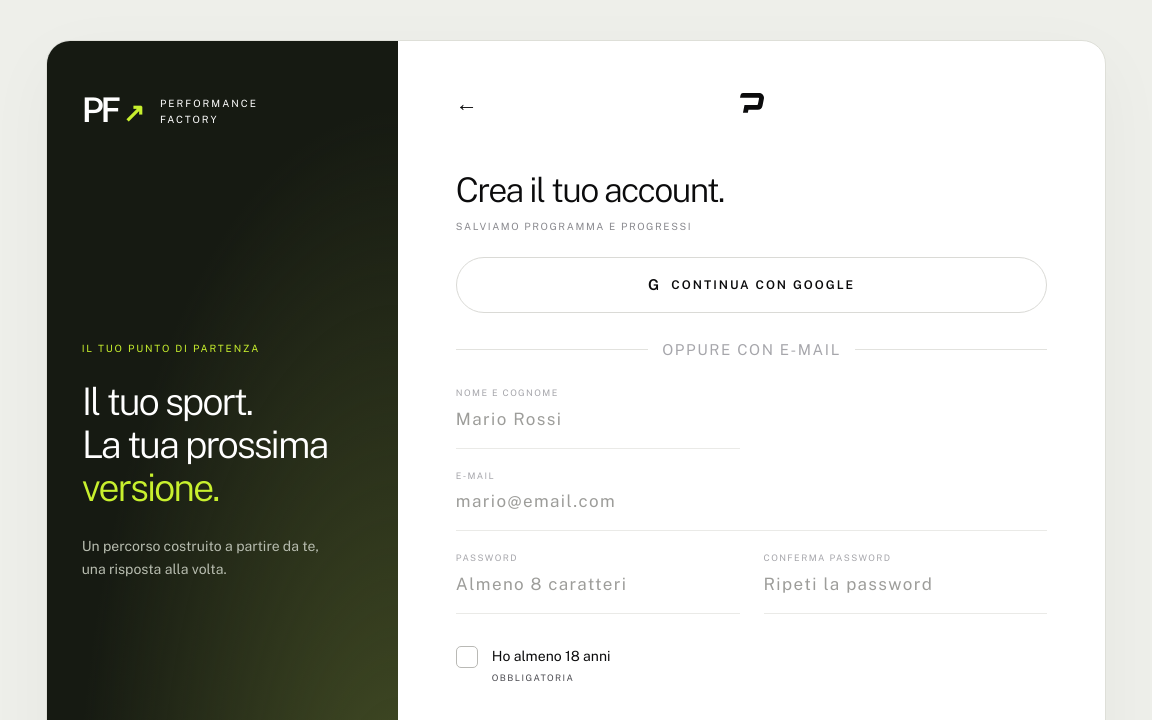
Scenario: Ingresso: attribuzione, eventi e 18+ › asks for a surname before sending the registration
In the field labelled "Nome e cognome": [598, 418] box [456,406,740,432], type "Mario"
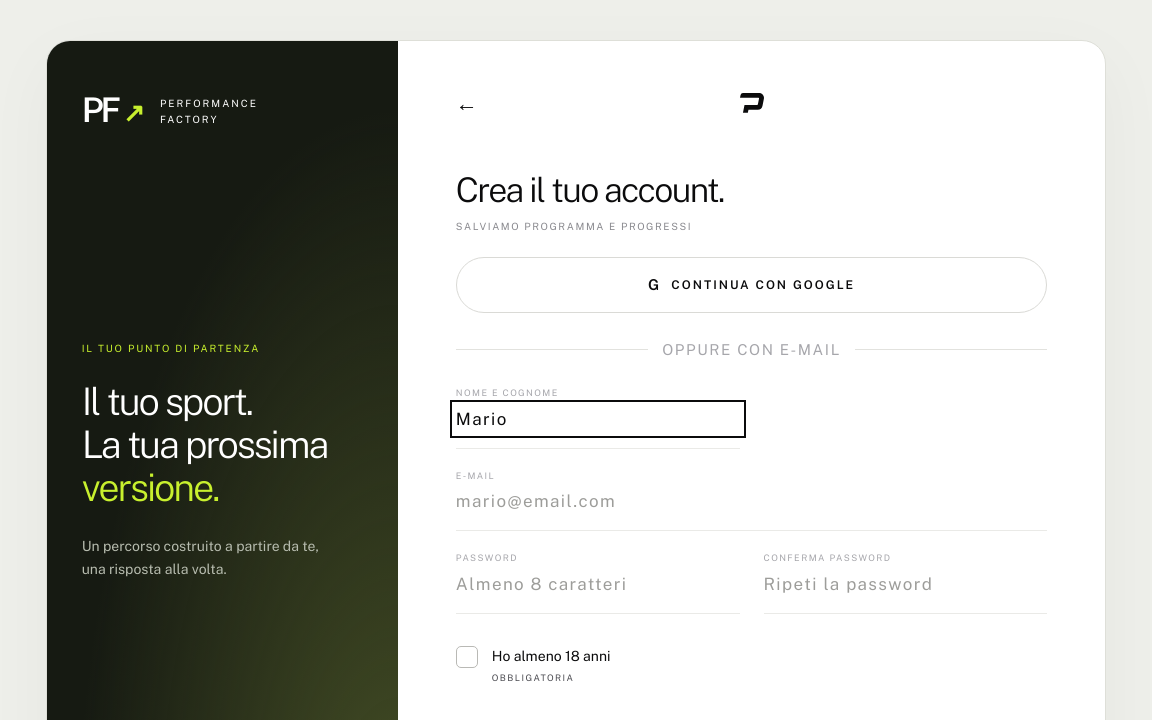
In the field labelled "E-mail": [752, 501] box [456,488,1047,514], type "m@pf.test"
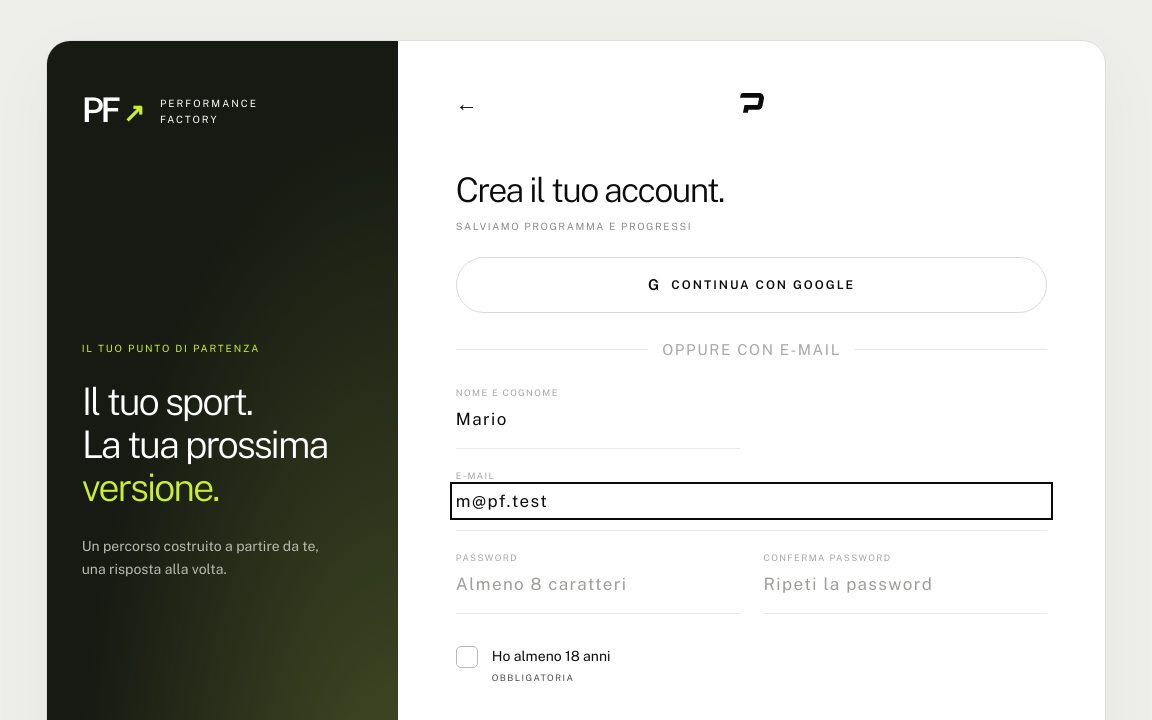
In the password field labelled "Password": [598, 584] box [456,570,740,596], type "password1"
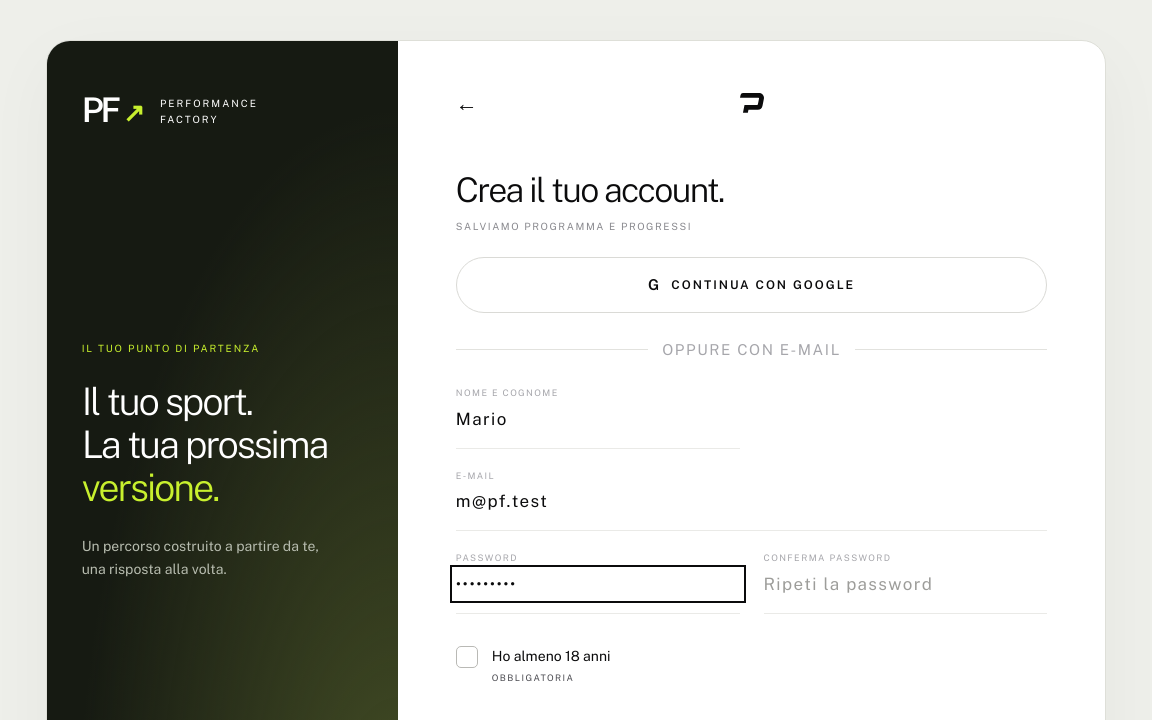
In the password field labelled "Conferma password": [906, 584] box [764,570,1047,596], type "password1"
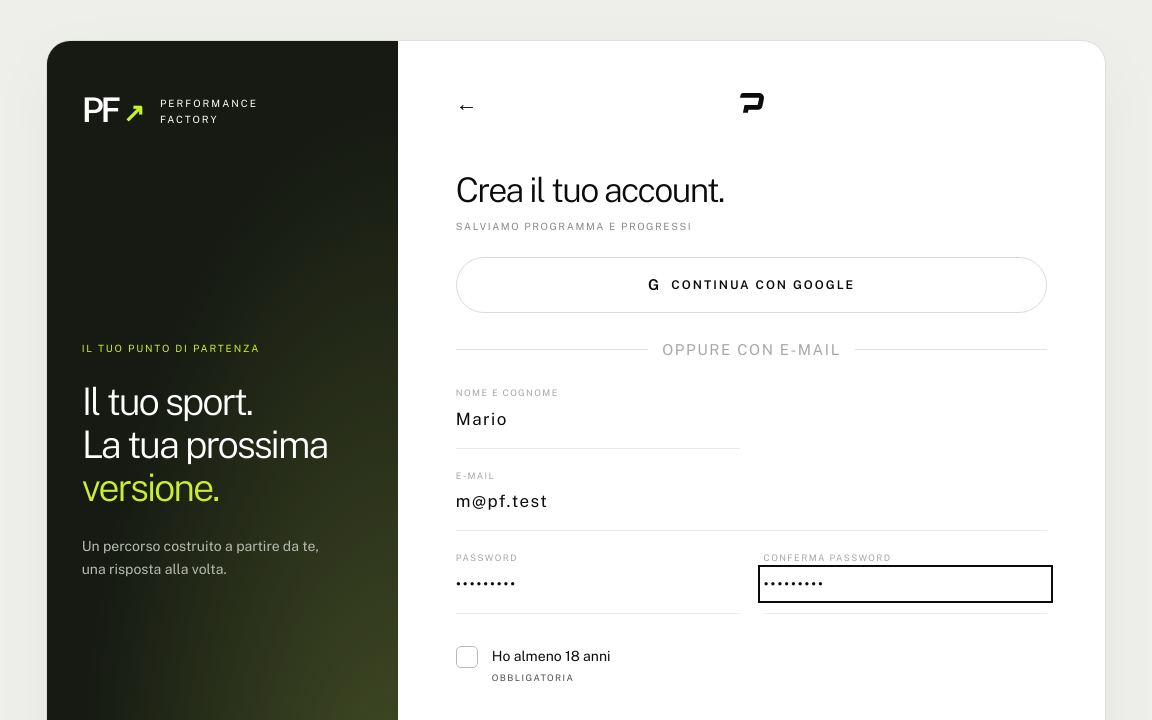
Click the checkbox labelled "Ho almeno 18 anni Obbligatoria": [467, 656] box [456,646,478,668]
(page scrolled)
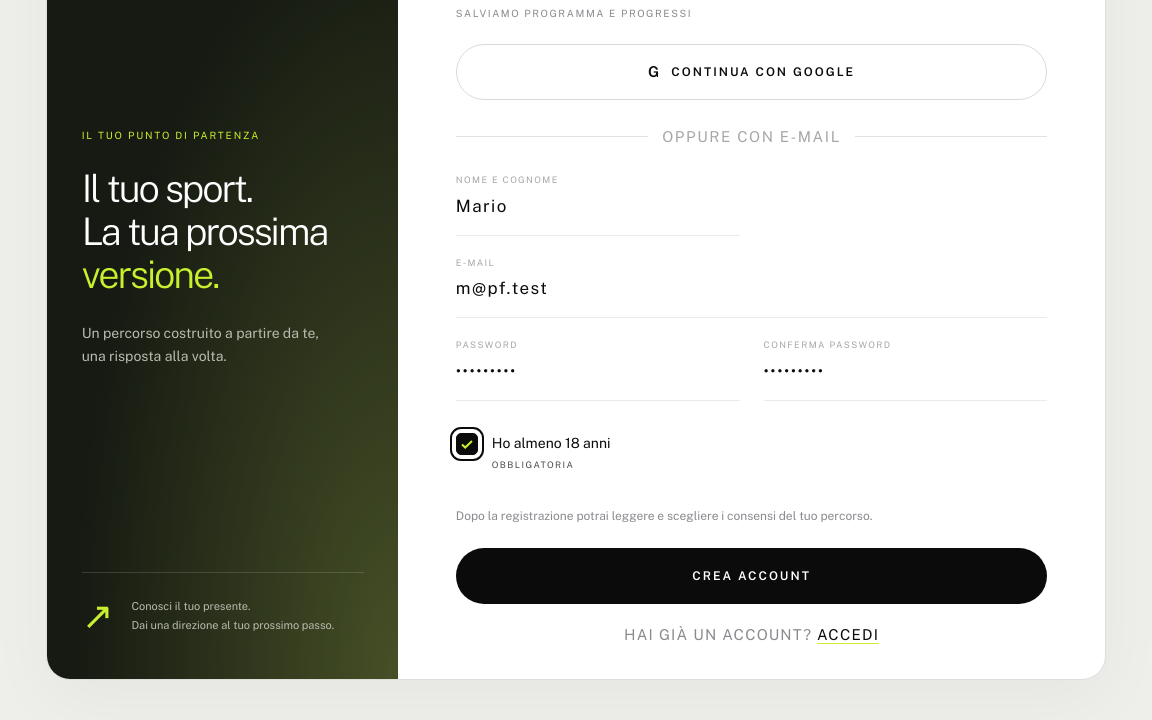
Click the button "Crea account": [752, 576] box [456,548,1047,604]
(page scrolled)
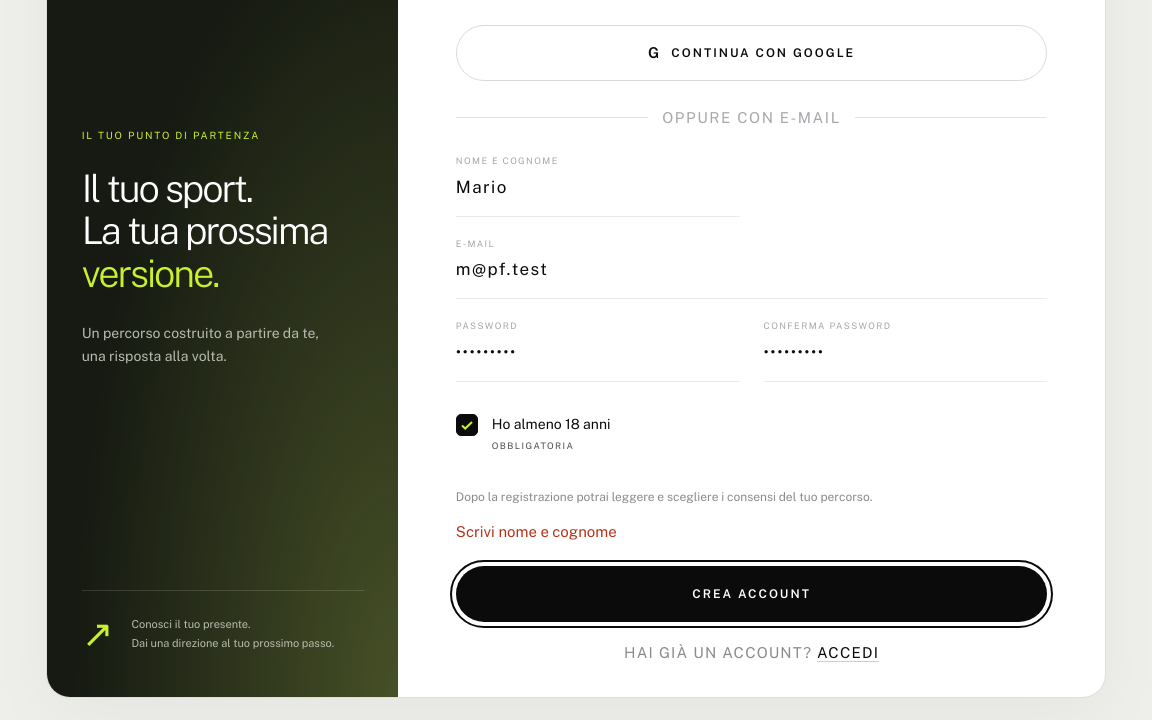
Expected: the message reads "Scrivi nome e cognome", [456,522,617,540]
